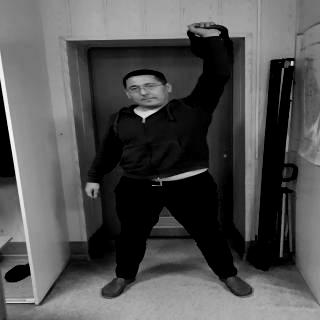kettlebell: (185, 25, 232, 58)
